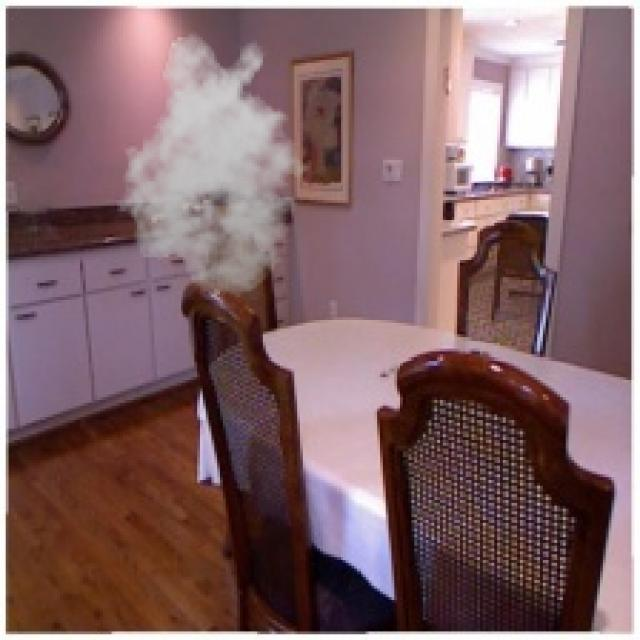smoke: (111, 32, 320, 297)
